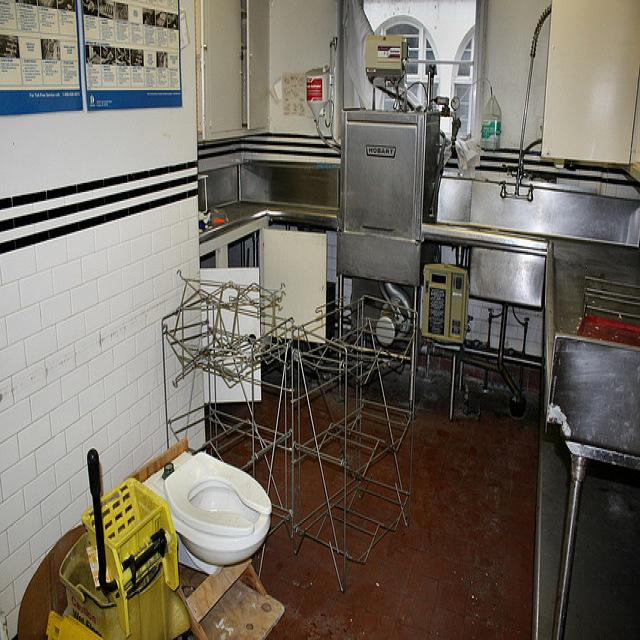sink: (470, 222, 552, 311)
toilet: (148, 446, 270, 574)
